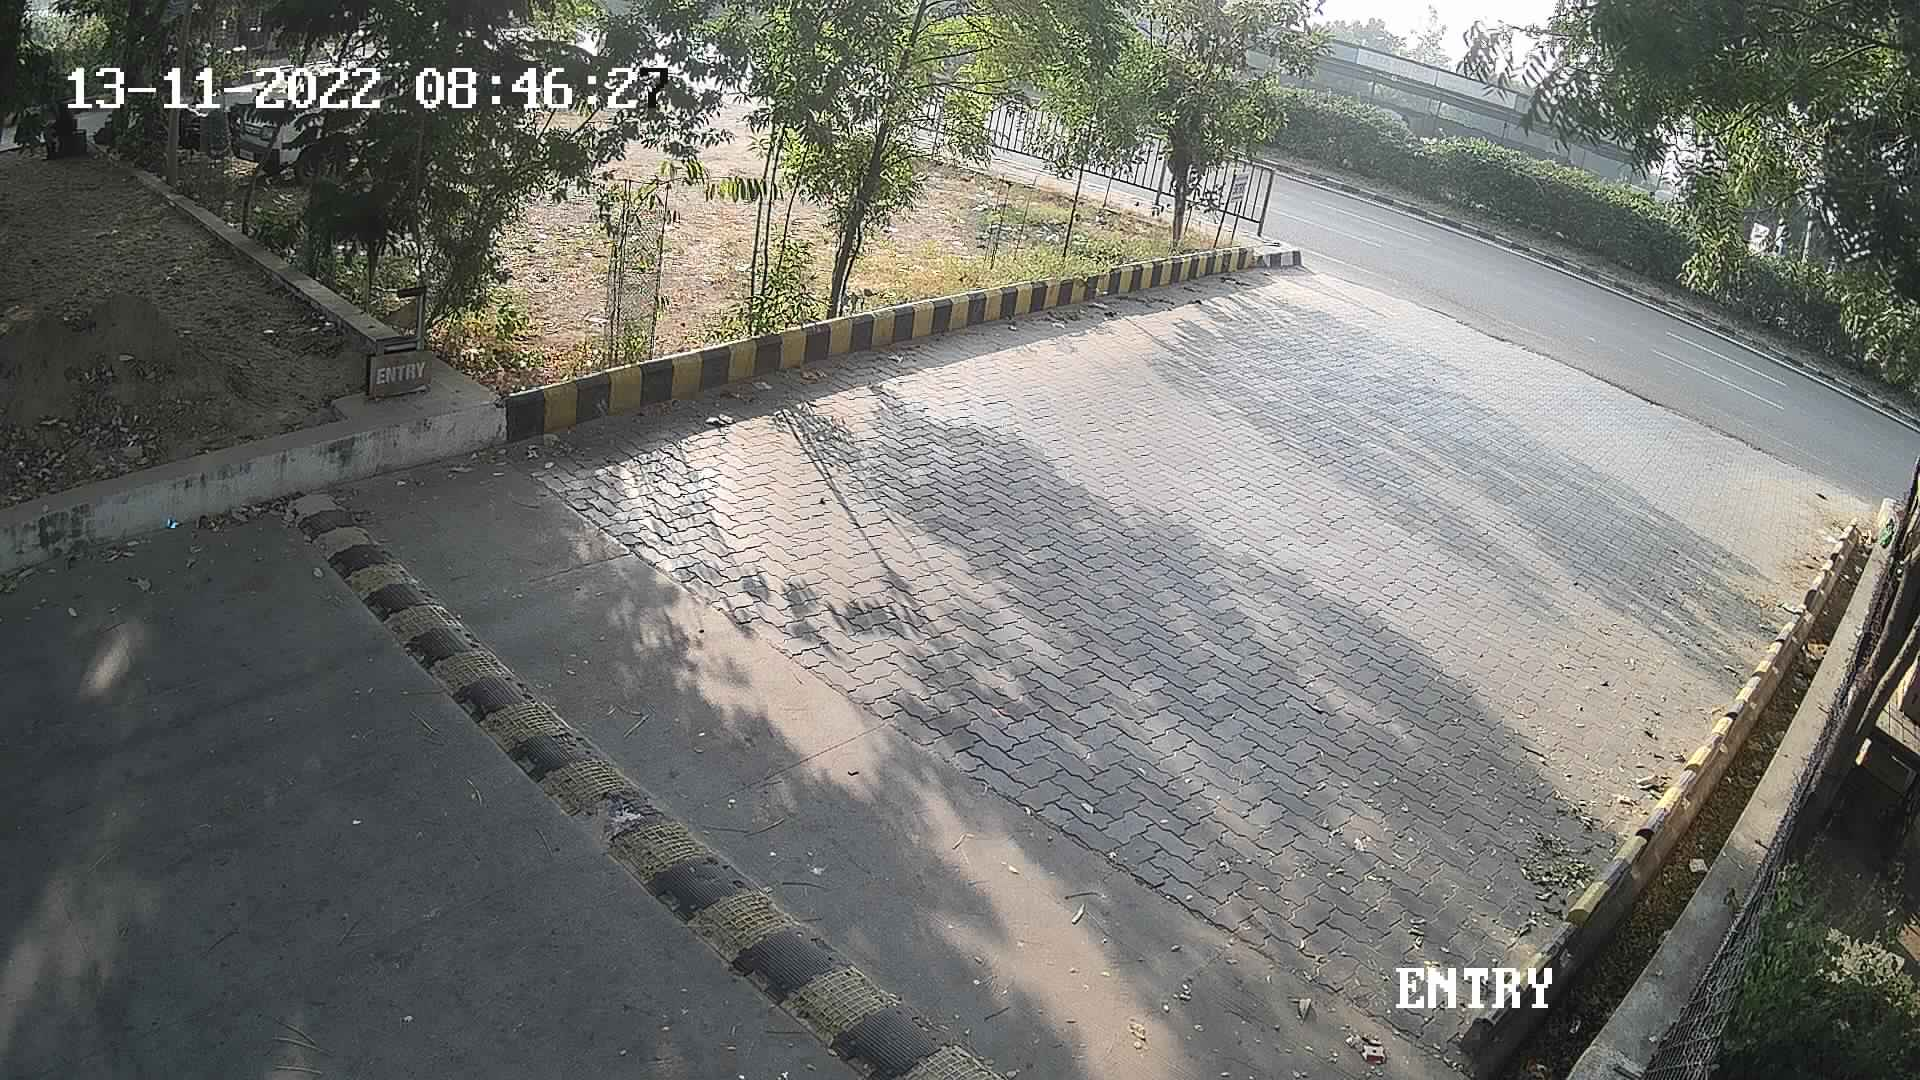Car: (218, 45, 370, 194)
